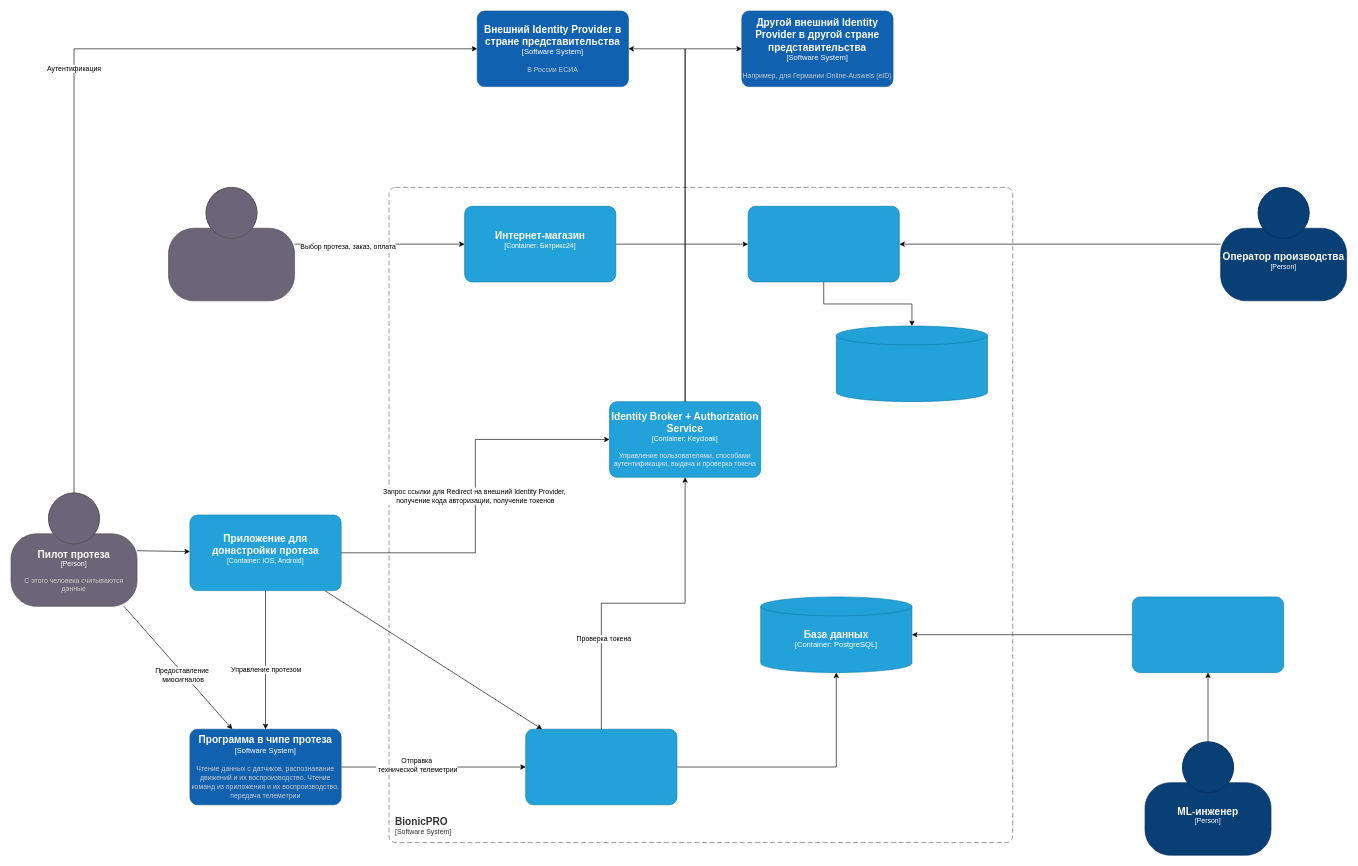
Some shapes in this 1358 by 866 pixel diagram are drawn without their labels. Here are the shapes that lost their labels. From the top down, the box of each, then its label:
(168, 187, 295, 301): Покупатель протеза [Person]
(747, 206, 899, 282): CRM [Container: Битрикс24]
(836, 325, 988, 402): CRM DB [Container: e.g. Oracle Database 12]
(1132, 596, 1284, 673): cli tool [Container: e.g. SpringBoot, ElasticSearch, etc.]
(525, 729, 677, 805): API [Container: SpringBoot] API, проверка JWT токенов.
